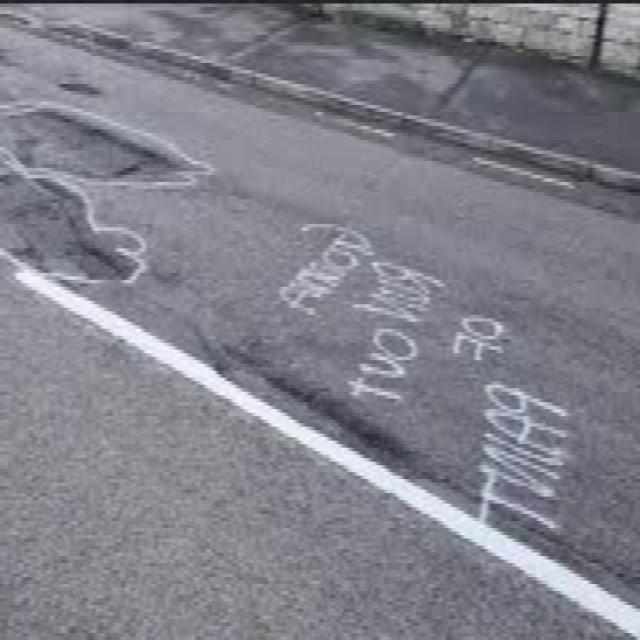Pothole: (204, 338, 423, 477), (0, 179, 147, 295), (0, 105, 185, 188), (54, 75, 112, 99)
